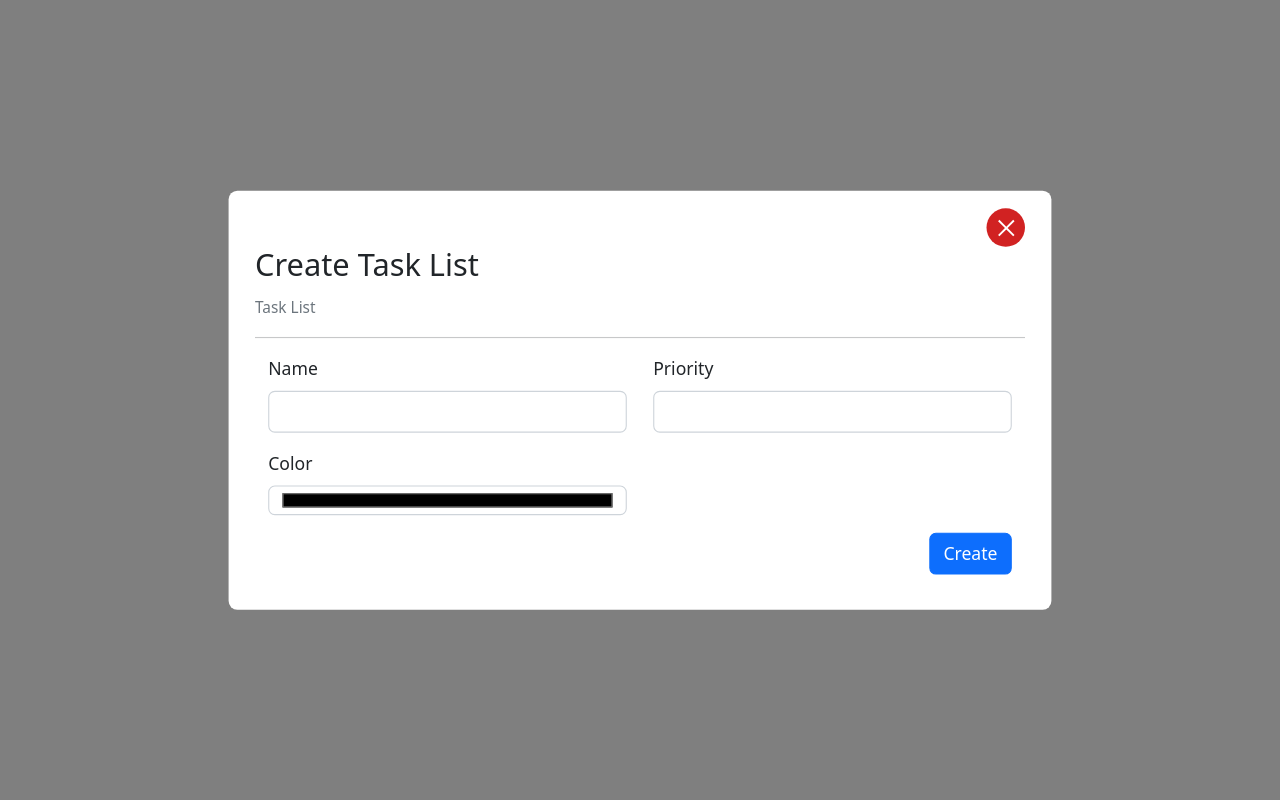
it: CreateTaskList modal should add a new TaskList on submit
Type "Test Task List 1" into the field with test id "create-list-modal-input-title" at (448, 411), box top-left (268, 390), bottom-right (627, 432)
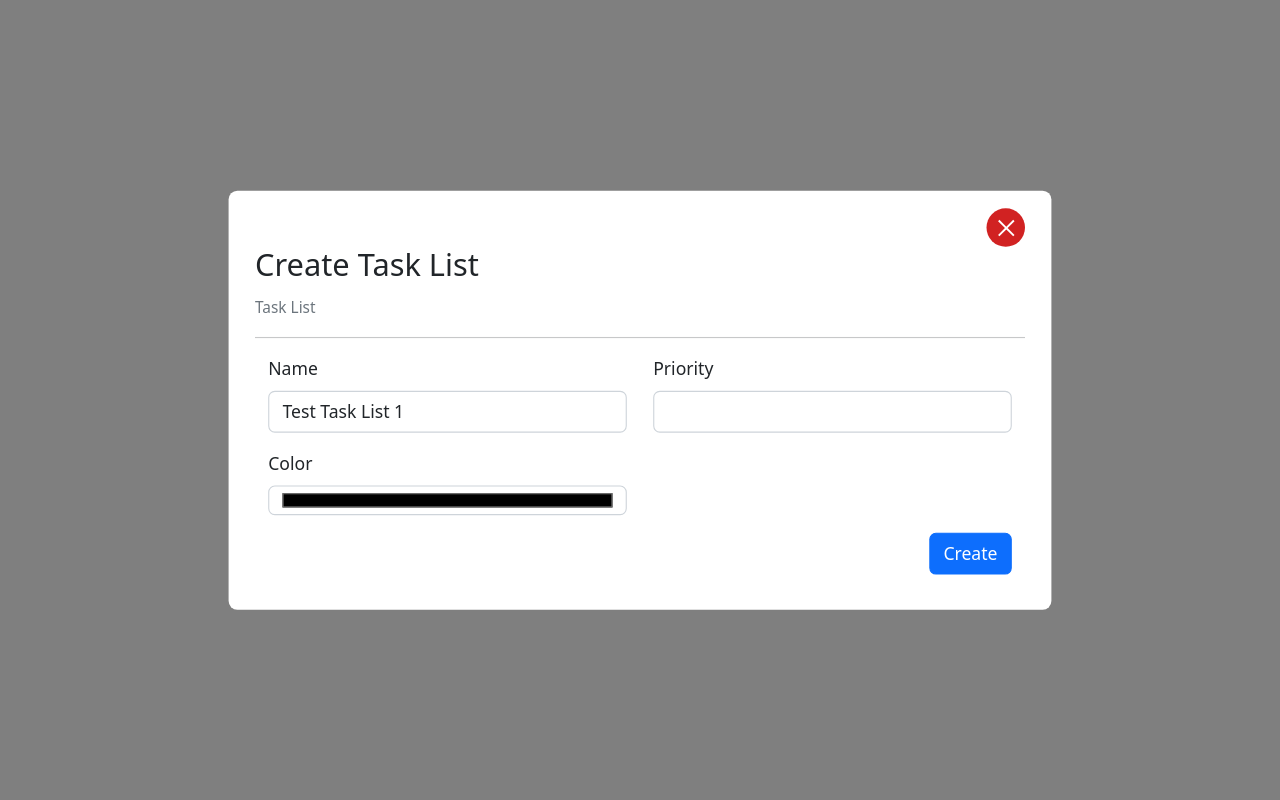
Click the button with test id "task-list-modal-submit-btn" at (970, 553), box top-left (929, 532), bottom-right (1012, 574)
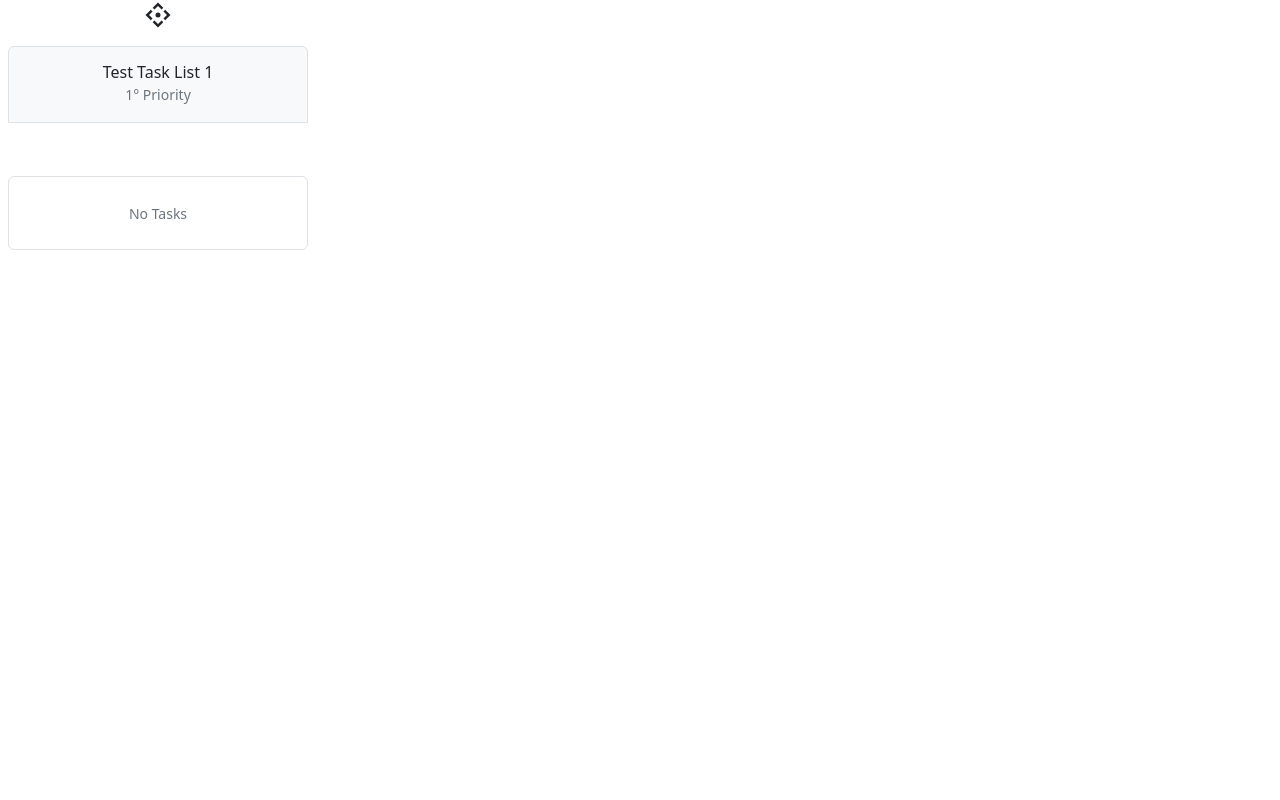
Expected: the text with test id "task-list-title-text" reads "Test Task List 1", top-left (103, 61), bottom-right (213, 83)
